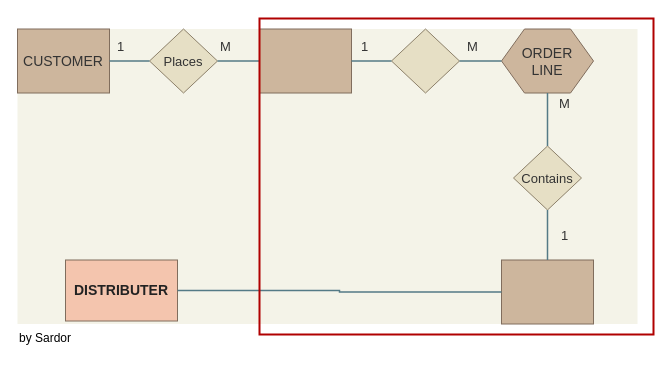
Image size: 672x365. Some labels were removed from this diagram. The shapes that lost their labels are listed below. From the top down, each one's box as (x1, y1, x2, y2) in pixels, then its label:
(258, 28, 352, 93): ORDER
(390, 28, 460, 93): Has
(500, 259, 594, 324): PRODUCT
